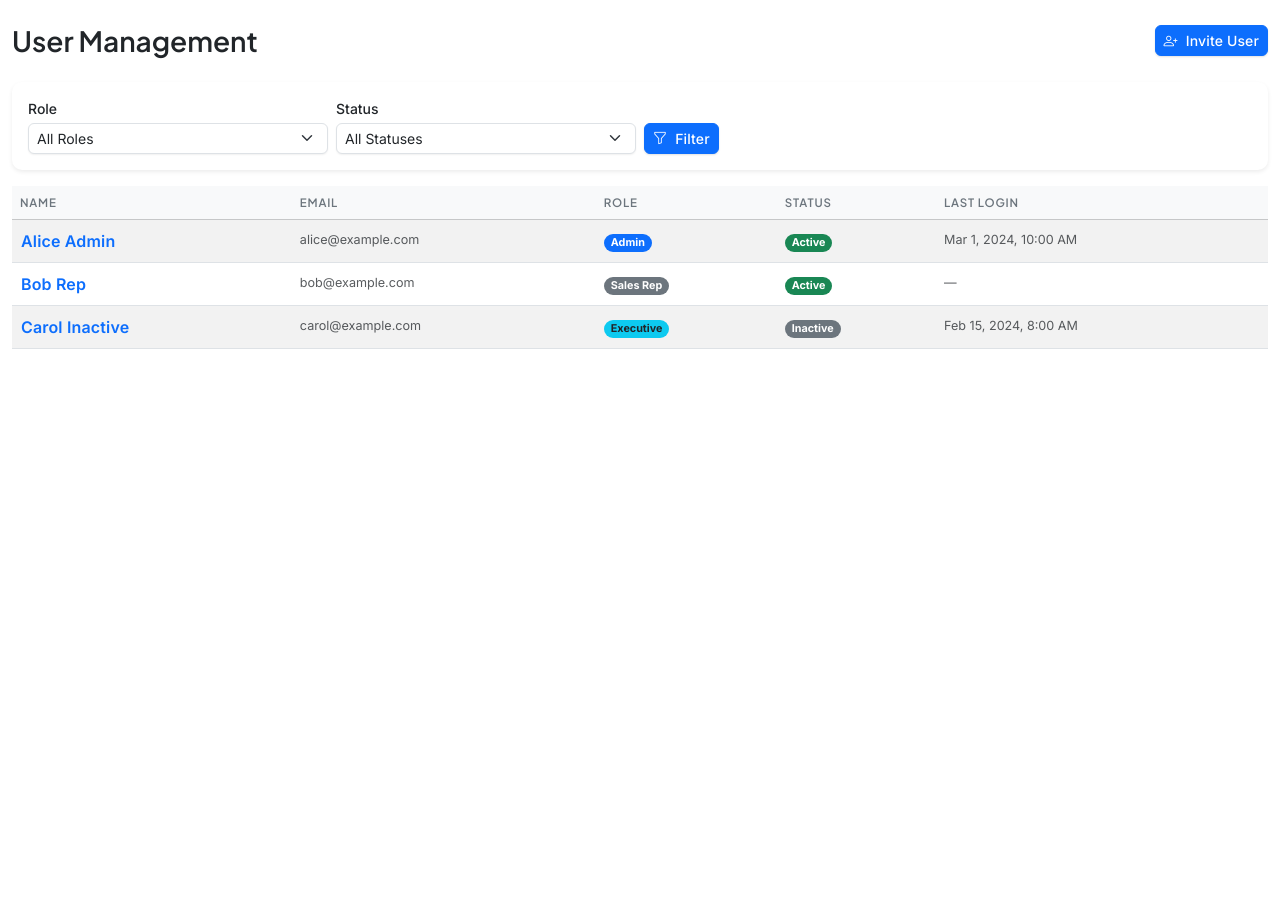
Test case: invite drawer › opens when '+ Invite User' is clicked
Click the button "Invite User" at (1211, 41), box 1155,25 -> 1268,56
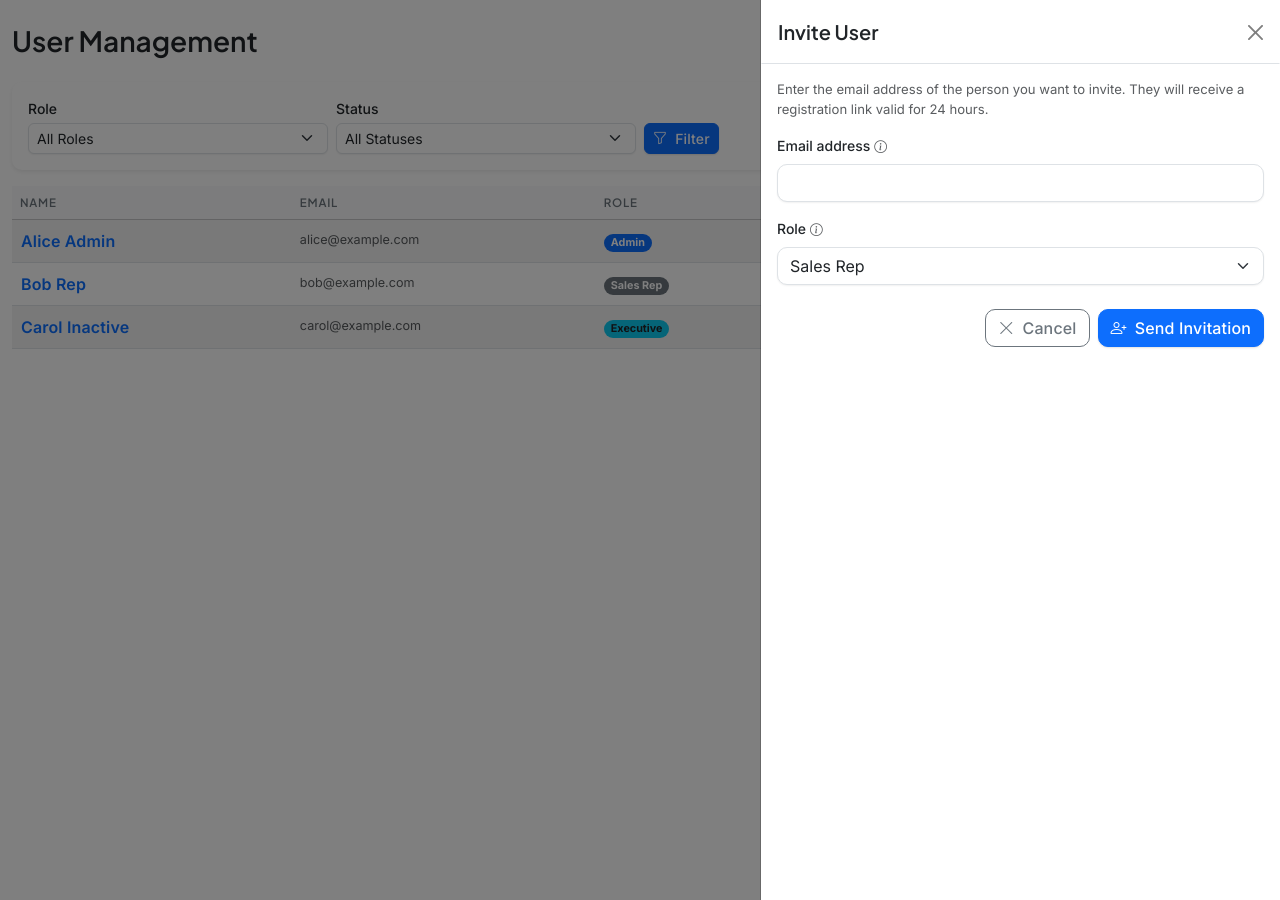
Expected: the dialog "Invite User" is shown, 760,0 -> 1279,899
